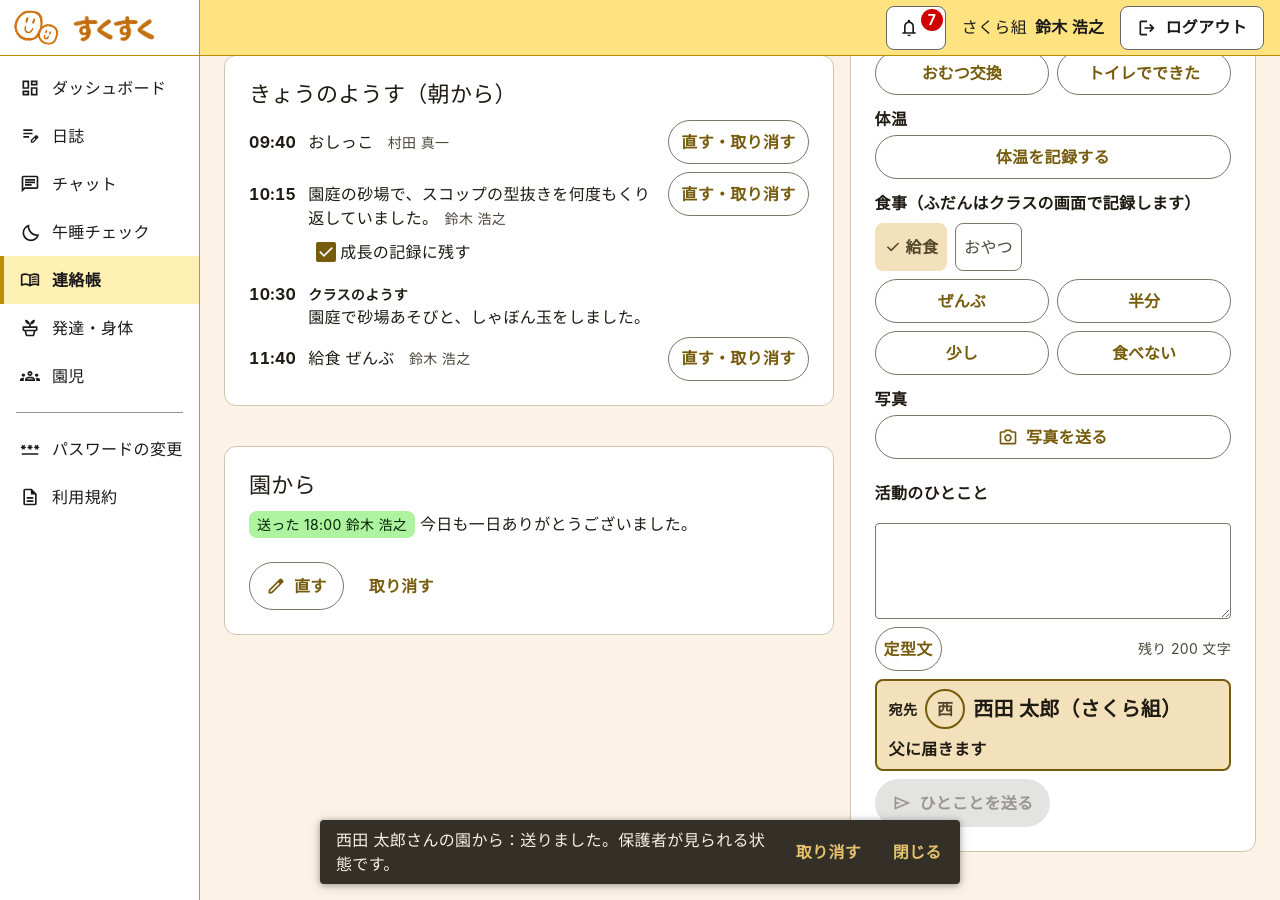
Test: 連絡帳（園児）画面：園からのひとこと › 直すと「直して送る」で訂正になり、取り消すと未送信に戻って書く欄が出る
The width and height of the screenshot is (1280, 900).
(page scrolled)
Step 1. Click the button "直す" → (296, 586), box [249,562,344,610]
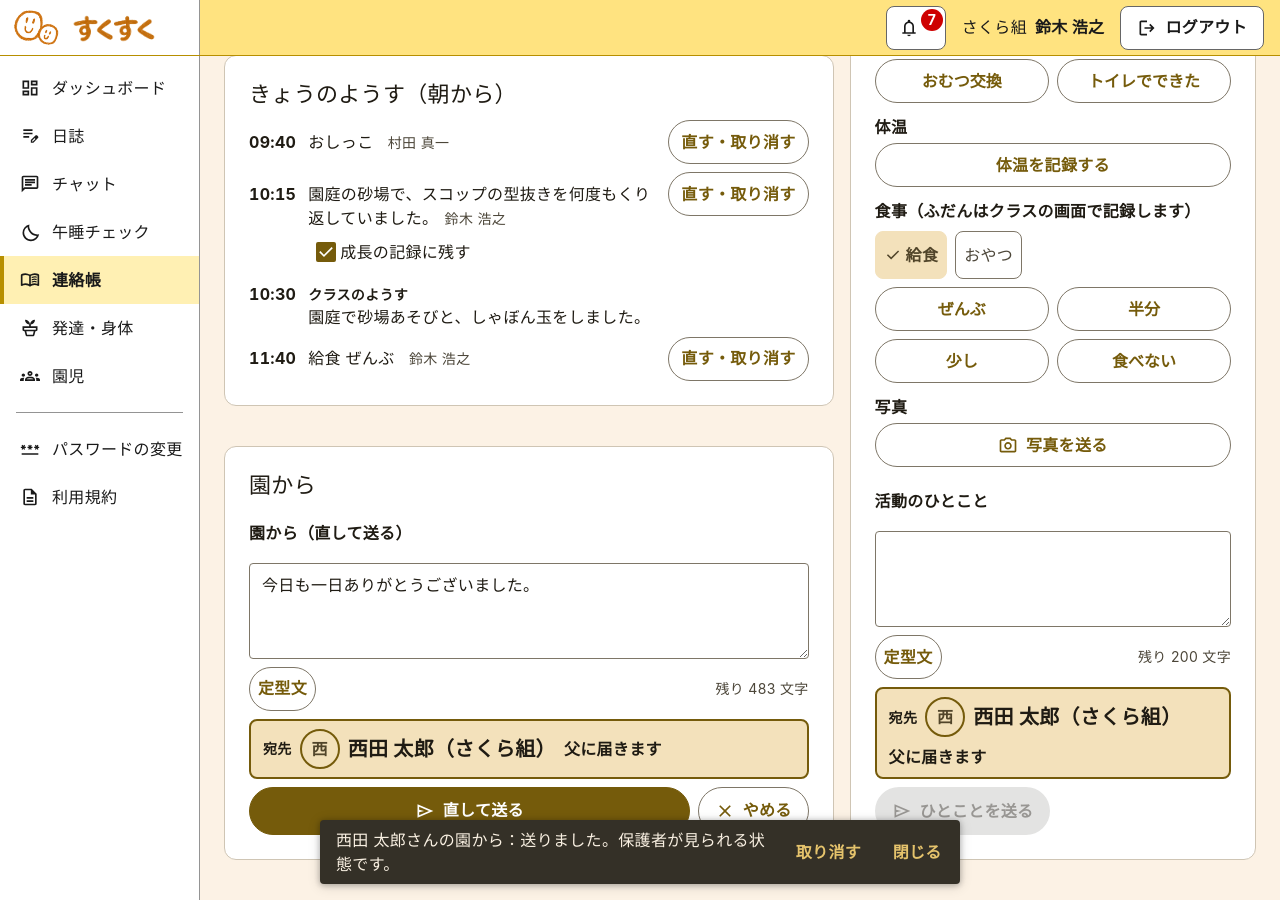
Step 2. Replace the text in the text box labelled "園から（直して送る）" with "園庭で砂場あそびをしました。" → (529, 611), box [249,563,809,659]
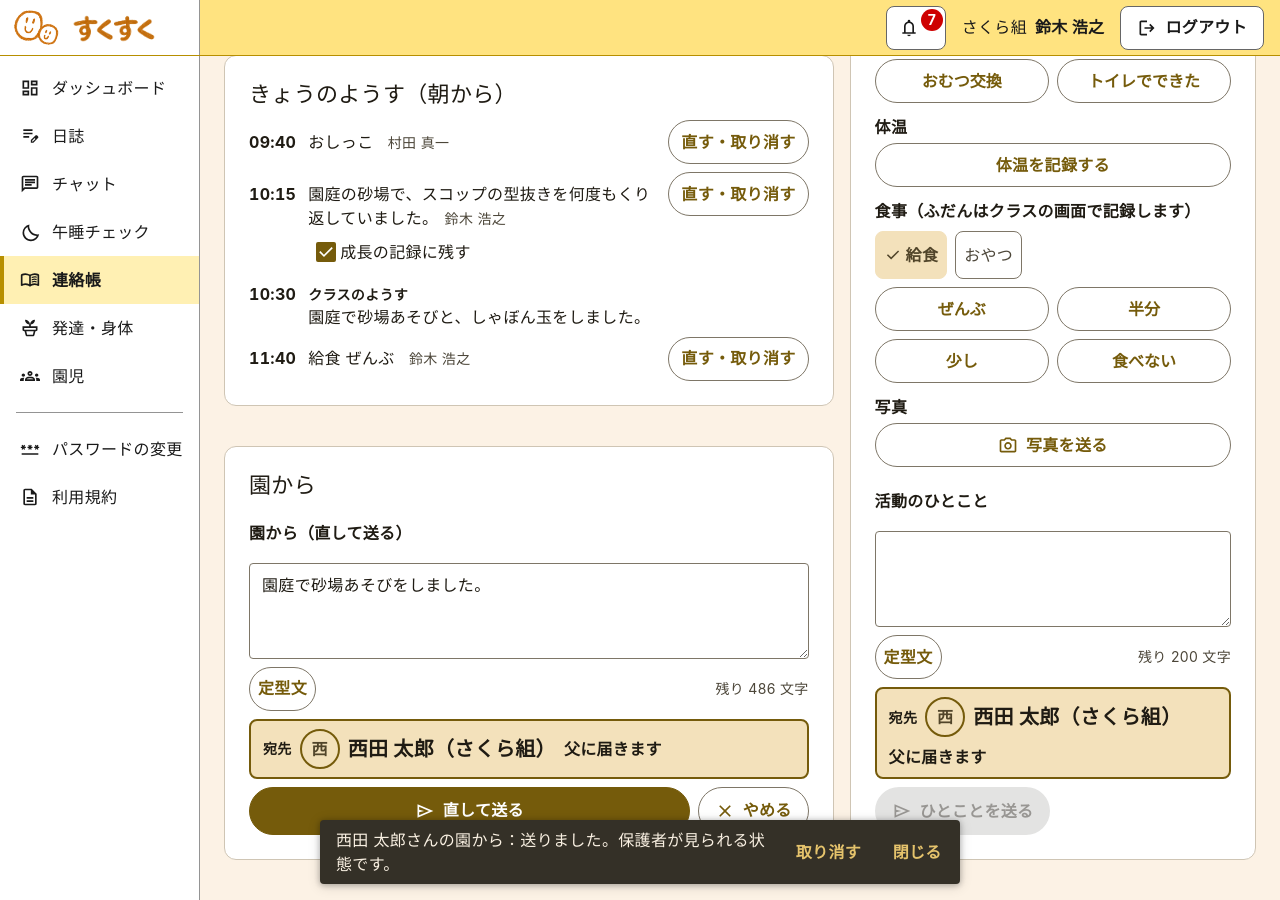
Step 3. Click the button "直して送る" → (469, 811), box [249,787,690,835]
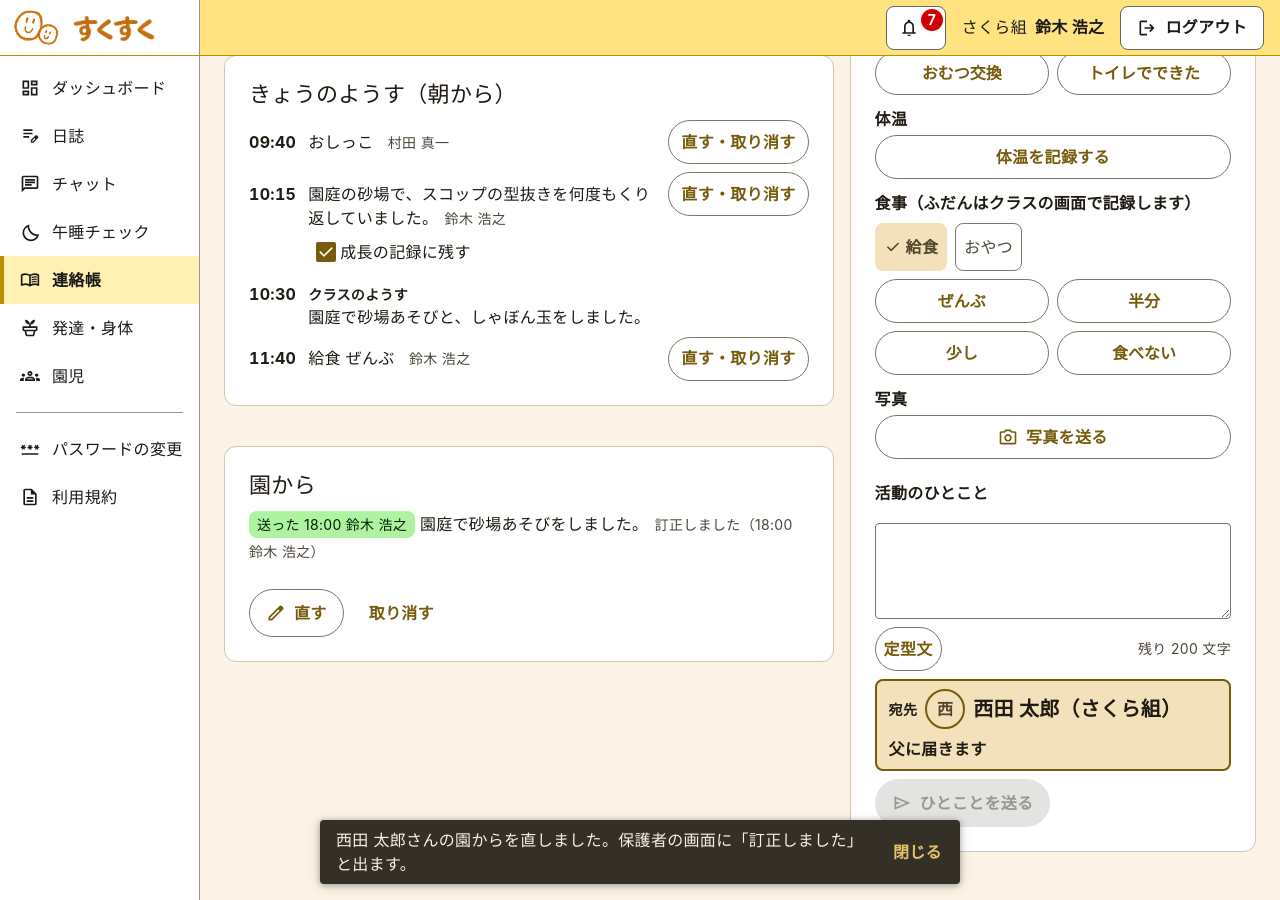
expect the message with class "toast" shows "西田 太郎さんの園からを直しました。": met, box [336,830,863,874]
Step 4. Click the button "取り消す" → (401, 613), box [352,589,451,637]
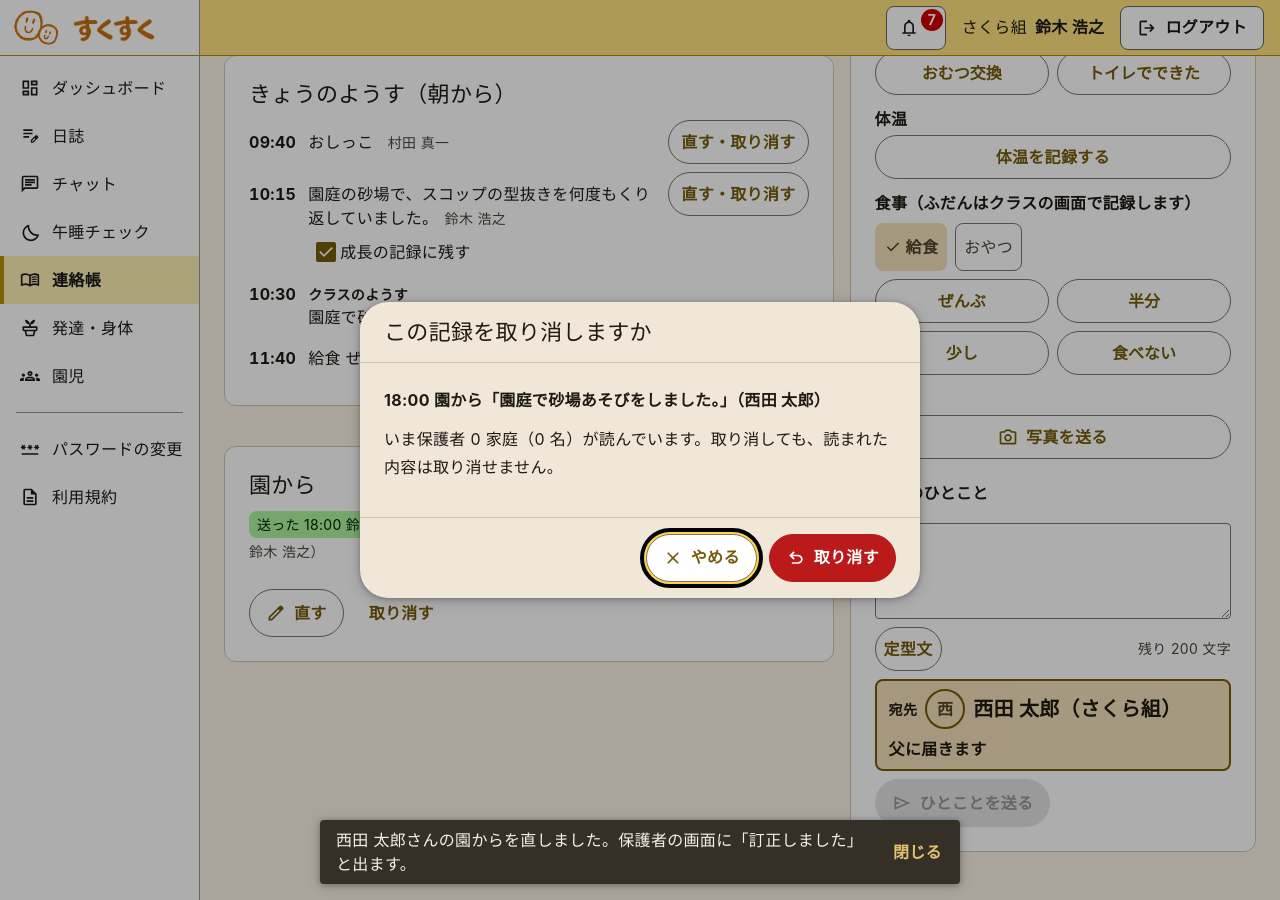
expect the text "いま保護者 0 家庭（0 名）が読んでいます。取り消しても、読まれた内容は取り消せません。" is shown: met, box [384,426,896,481]
Step 5. Click the button "取り消す" → (832, 558), box [769,534,896,582]
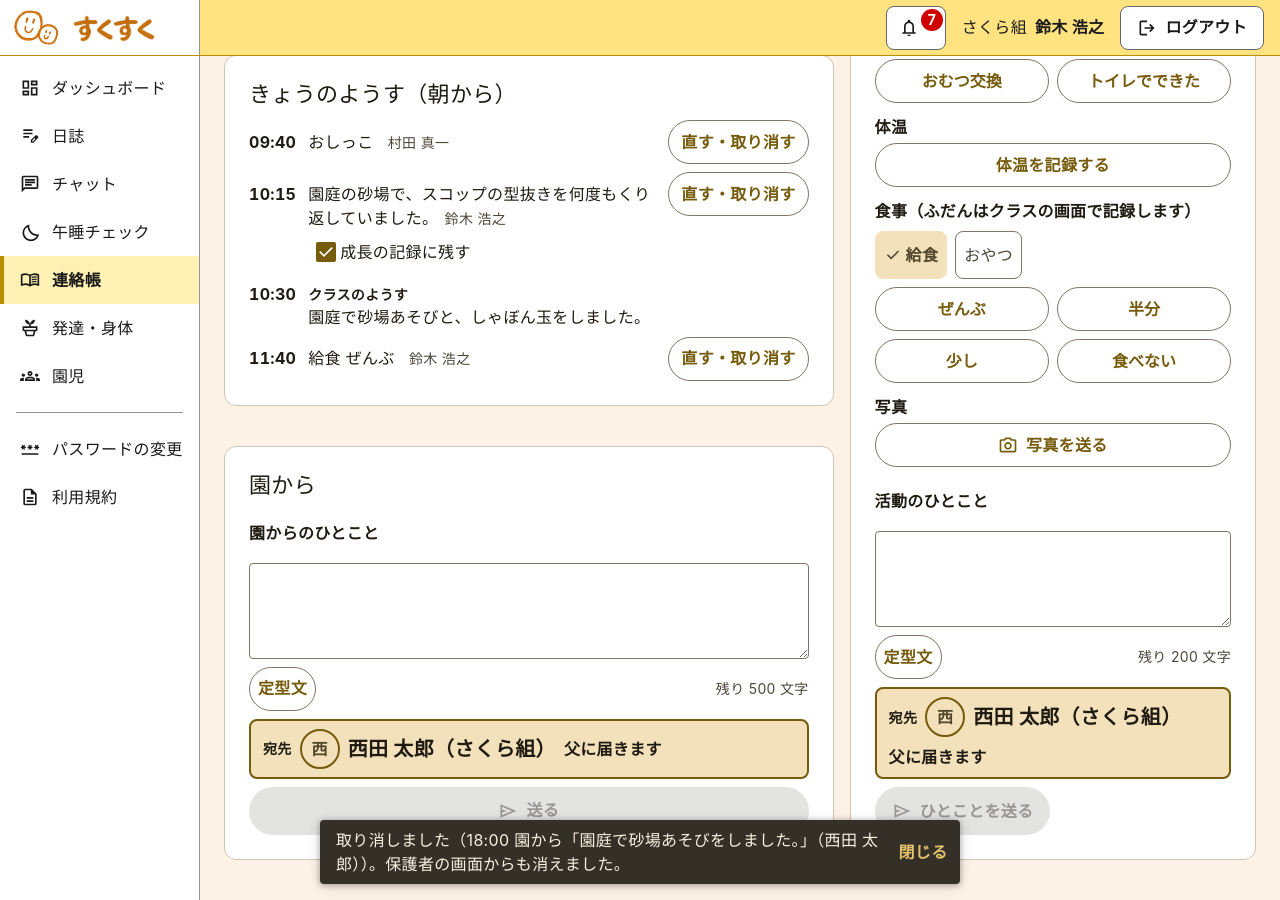
expect the message with class "toast" shows "取り消しました": met, box [336,830,878,874]
expect the text box labelled "園からのひとこと" is shown: met, box [249,563,809,659]
